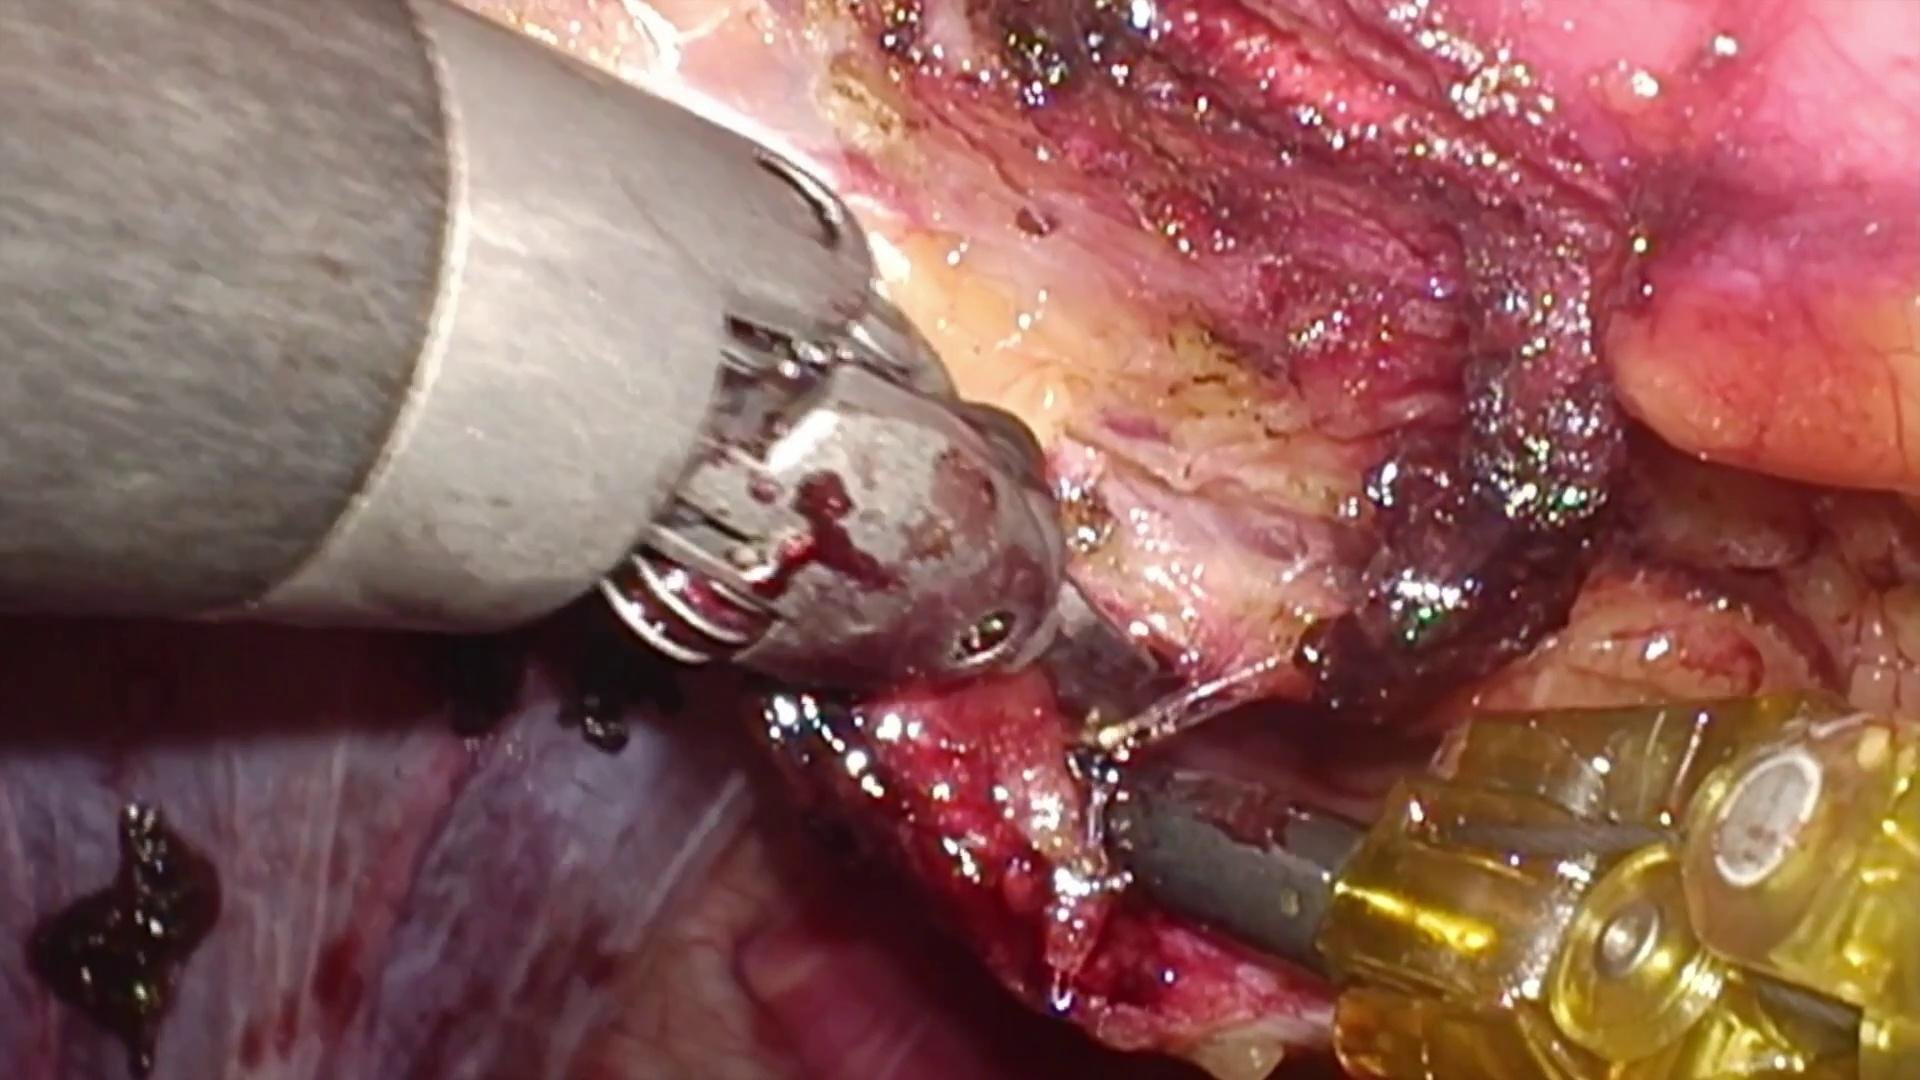Cautery_Spatula: (1064, 744, 1366, 965)
Debakey: (992, 475, 1156, 712)
